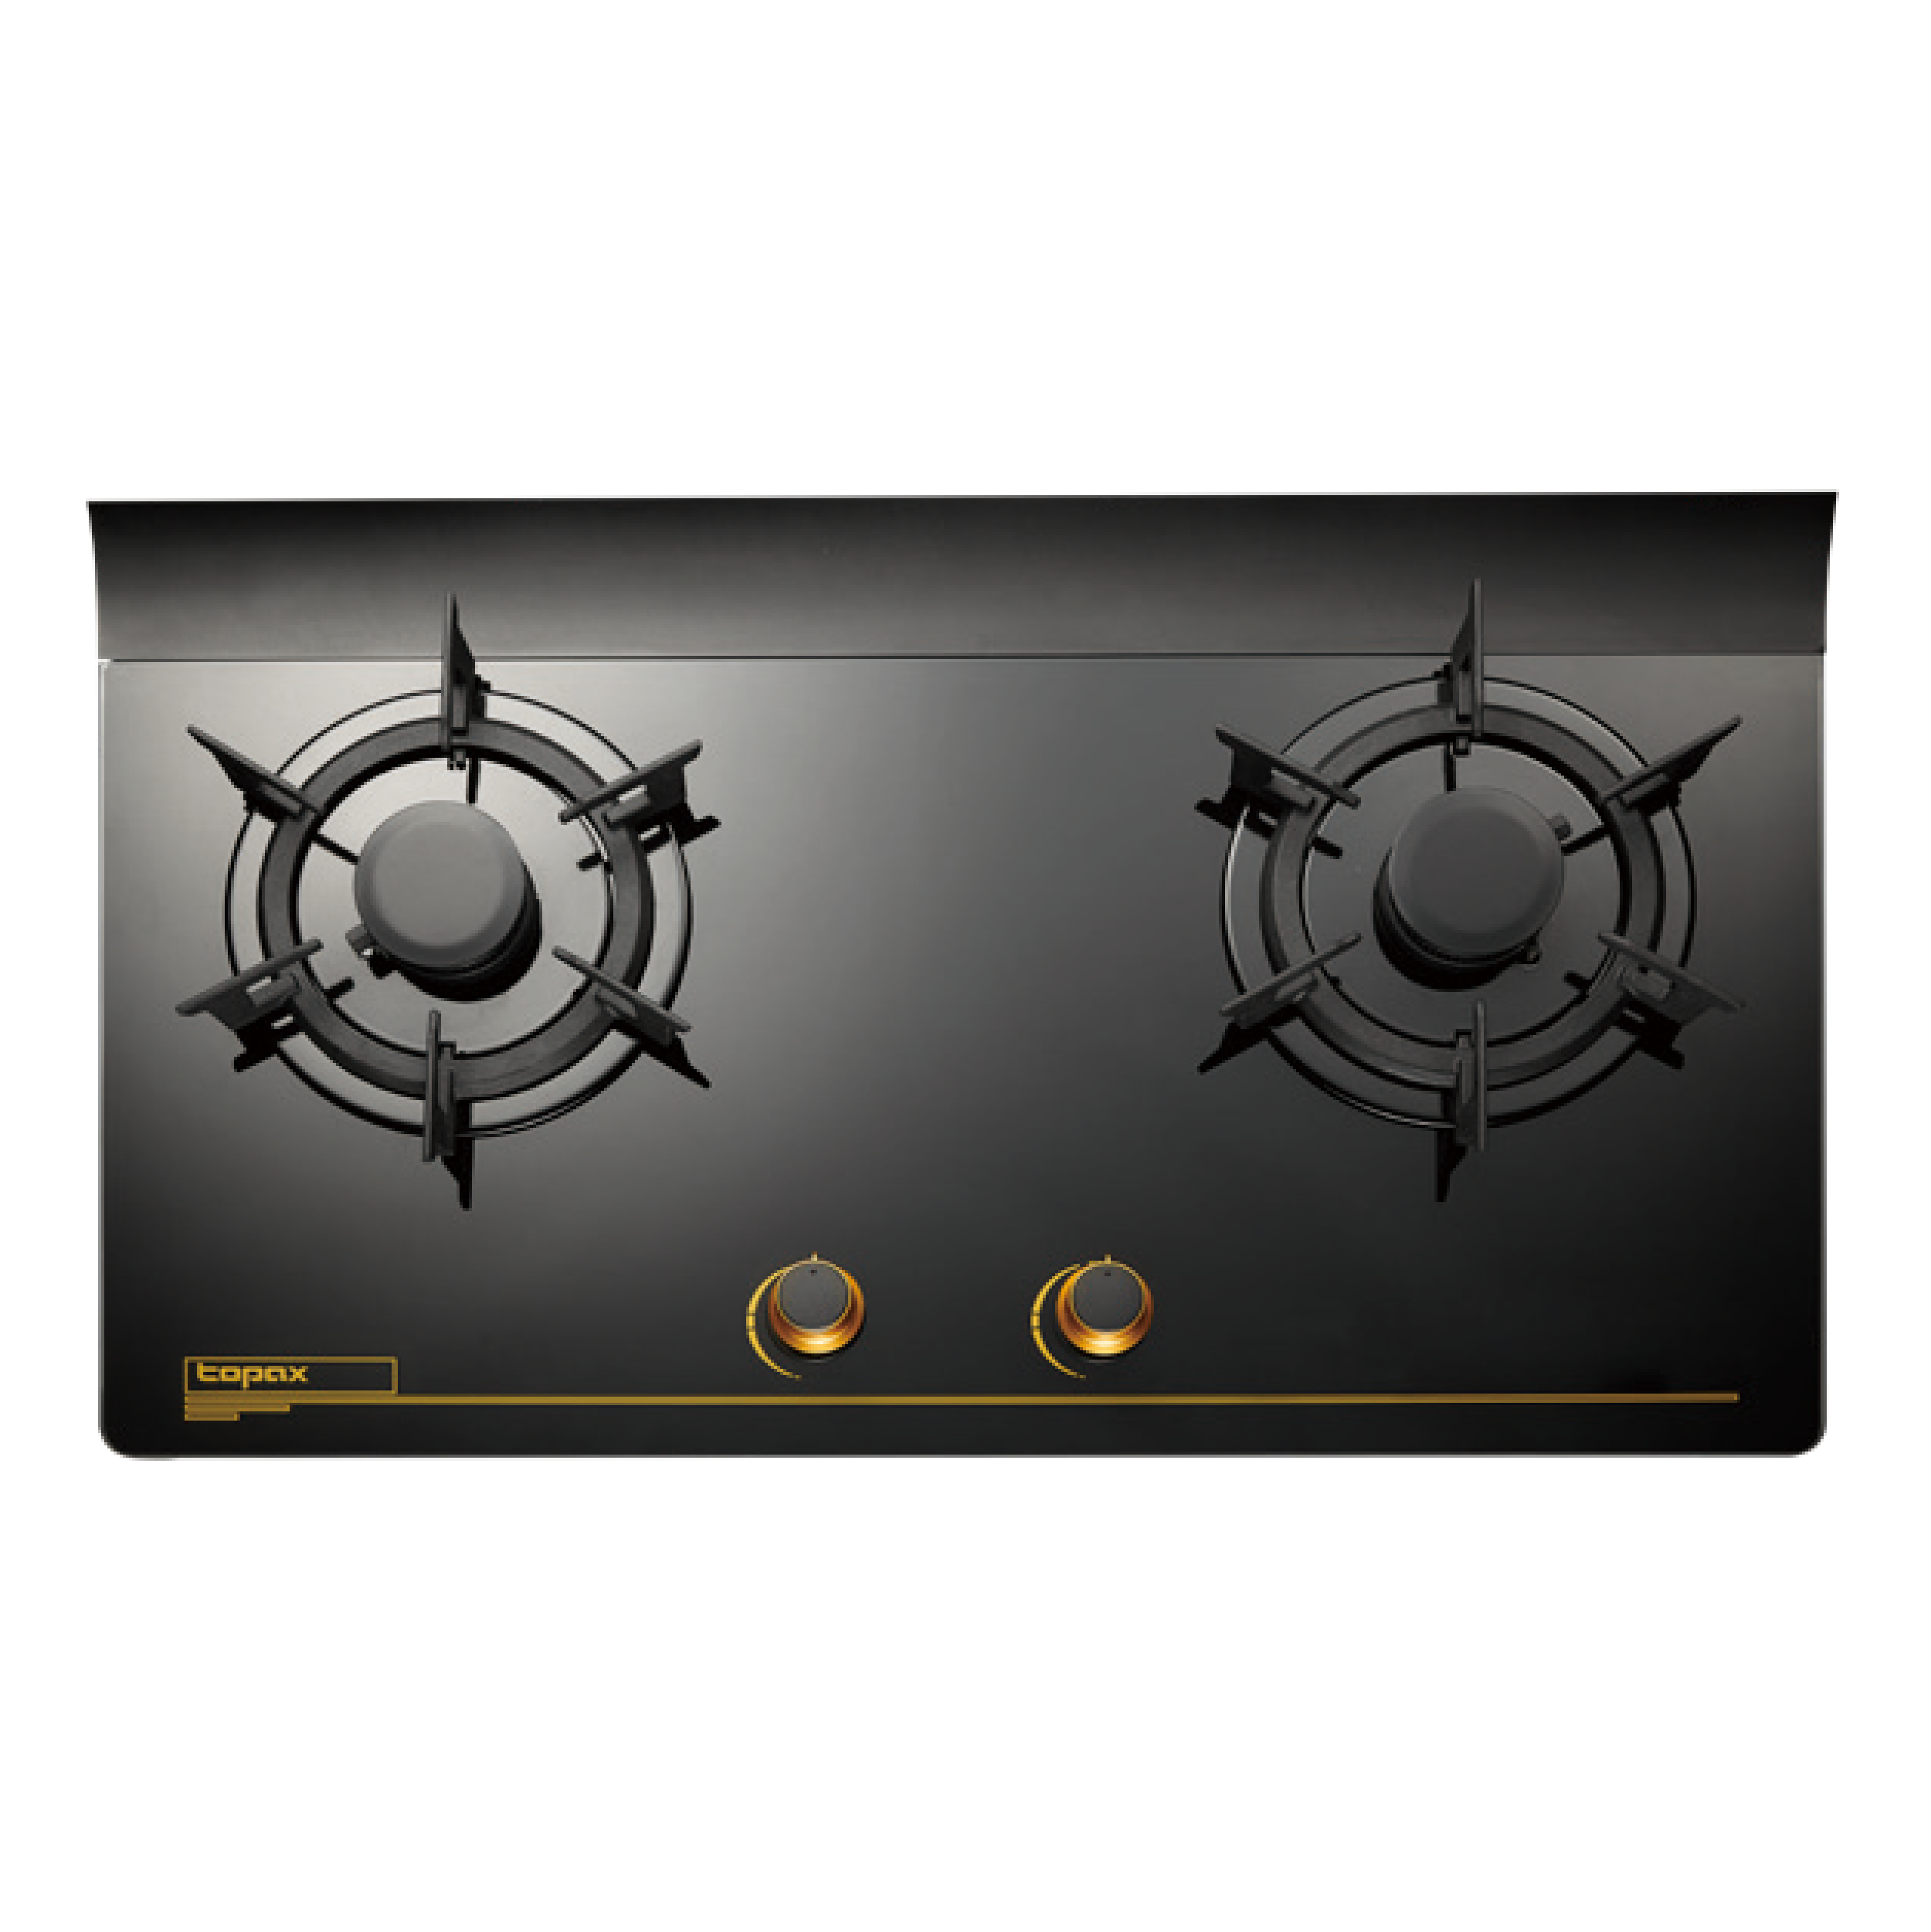gasoven: (65, 476, 1851, 1468)
